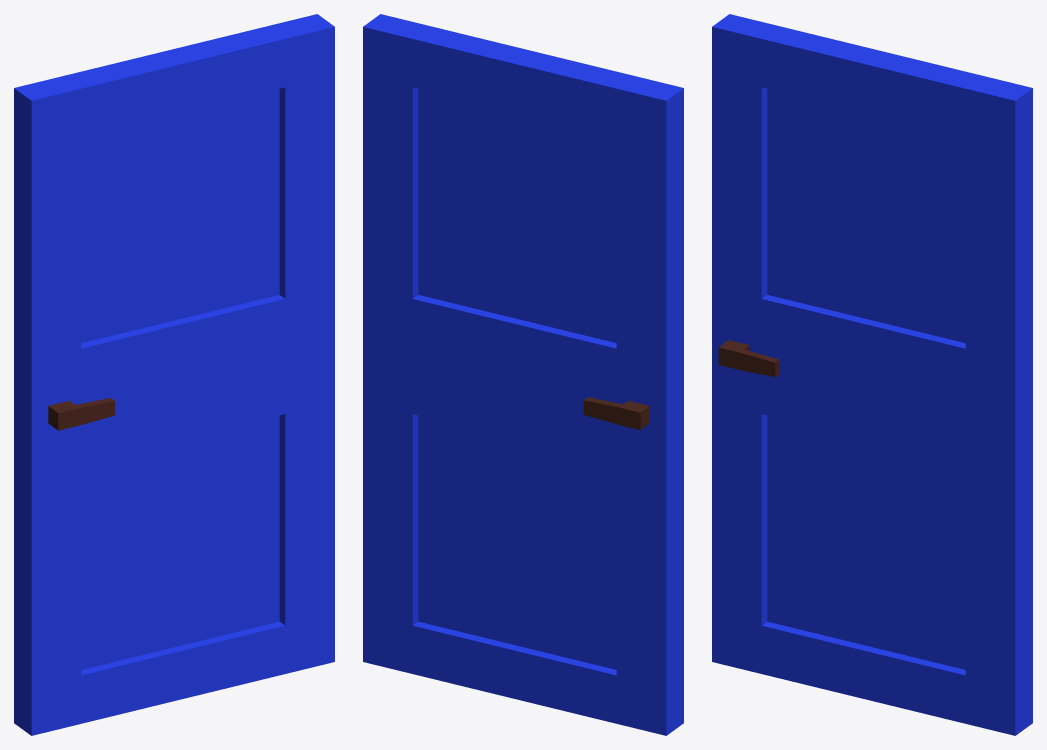
File: BLUE DOOR.fbx
3 views of the same model, side by side, from view 1: azimuth 30°, elevation 25°; view 2: azimuth 150°, elevation 25°; view 3: azimuth 330°, elevation 25° (orthographic).
Visible parts, largest first — view 1: Cube.001; view 2: Cube.001; view 3: Cube.001.
Boxes of the visible parts, x1,y1,x2,y2 form: Cube.001: [14, 14, 334, 735]; Cube.001: [363, 14, 683, 735]; Cube.001: [712, 14, 1032, 735].
Bounding box in the file's own units: 200 × 400 × 42.17.
